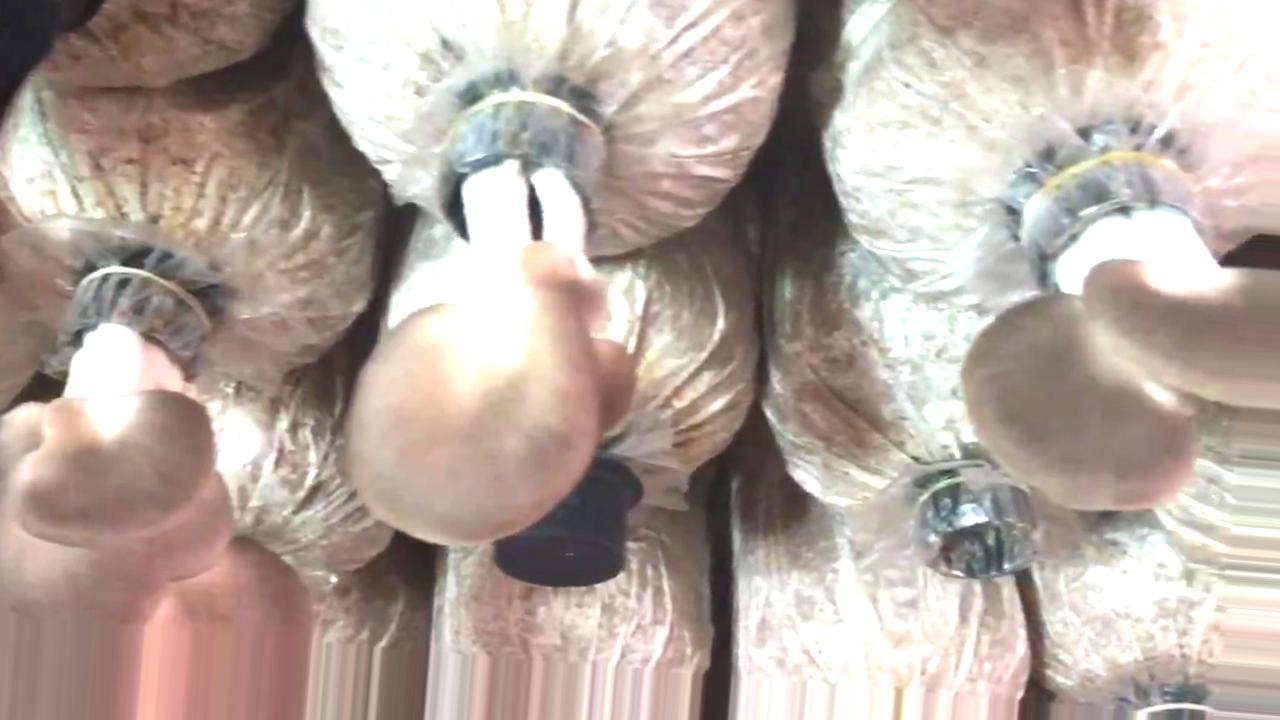nam: (1, 271, 309, 718), (346, 111, 636, 547), (963, 153, 1280, 510)
